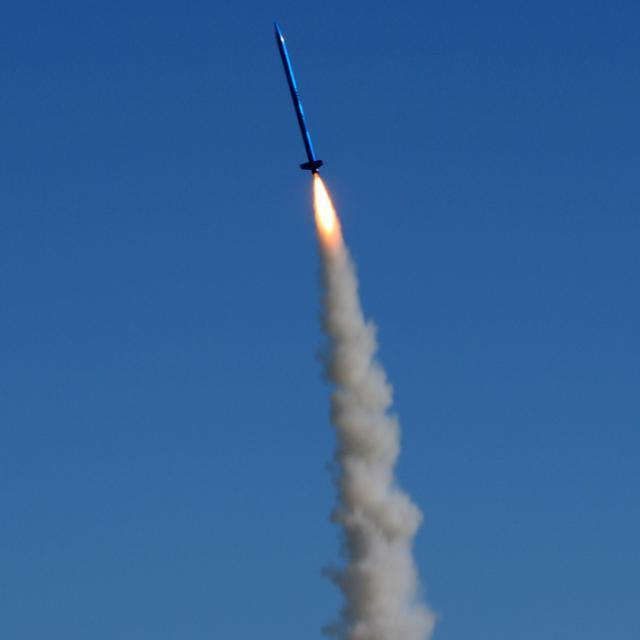missile: (266, 21, 334, 176)
